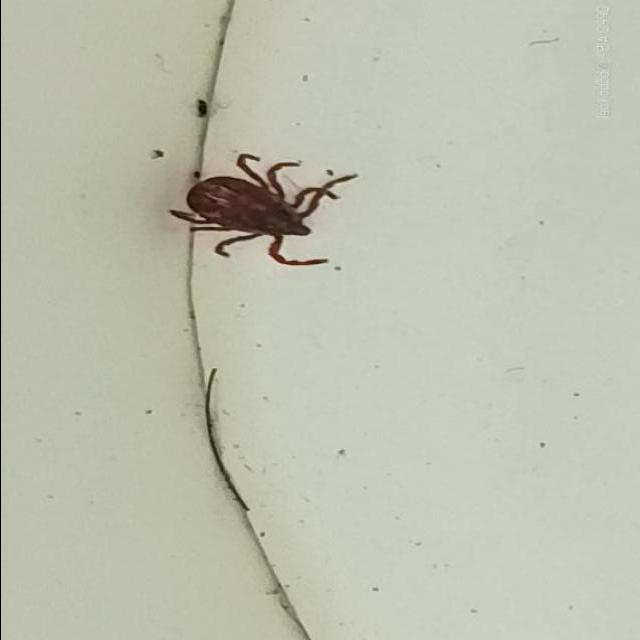Rhipicephalus Sanguineus-M: (172, 153, 360, 271)
